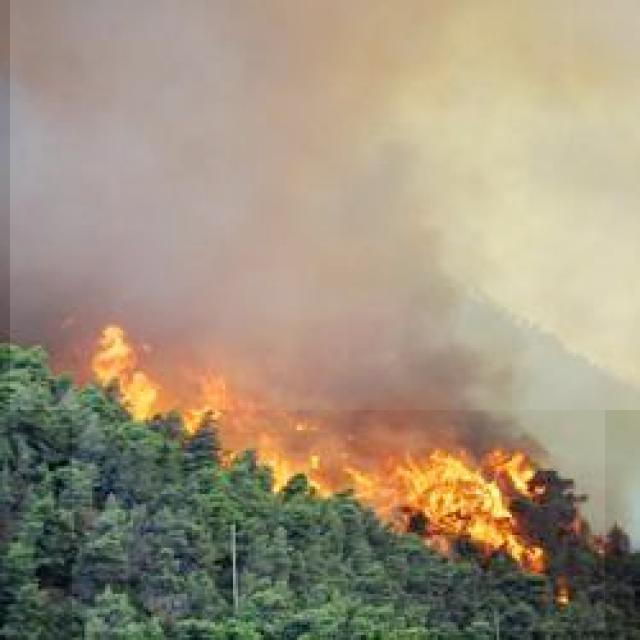Fire: (72, 330, 605, 631)
Smoke: (10, 0, 640, 410)
